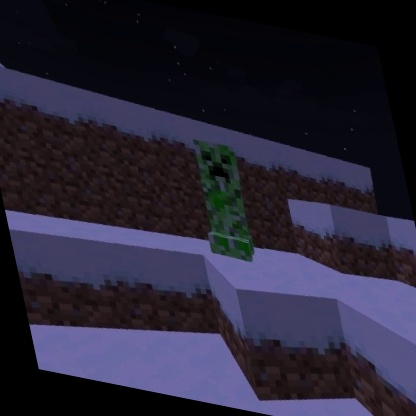creeper: (184, 135, 263, 268)
